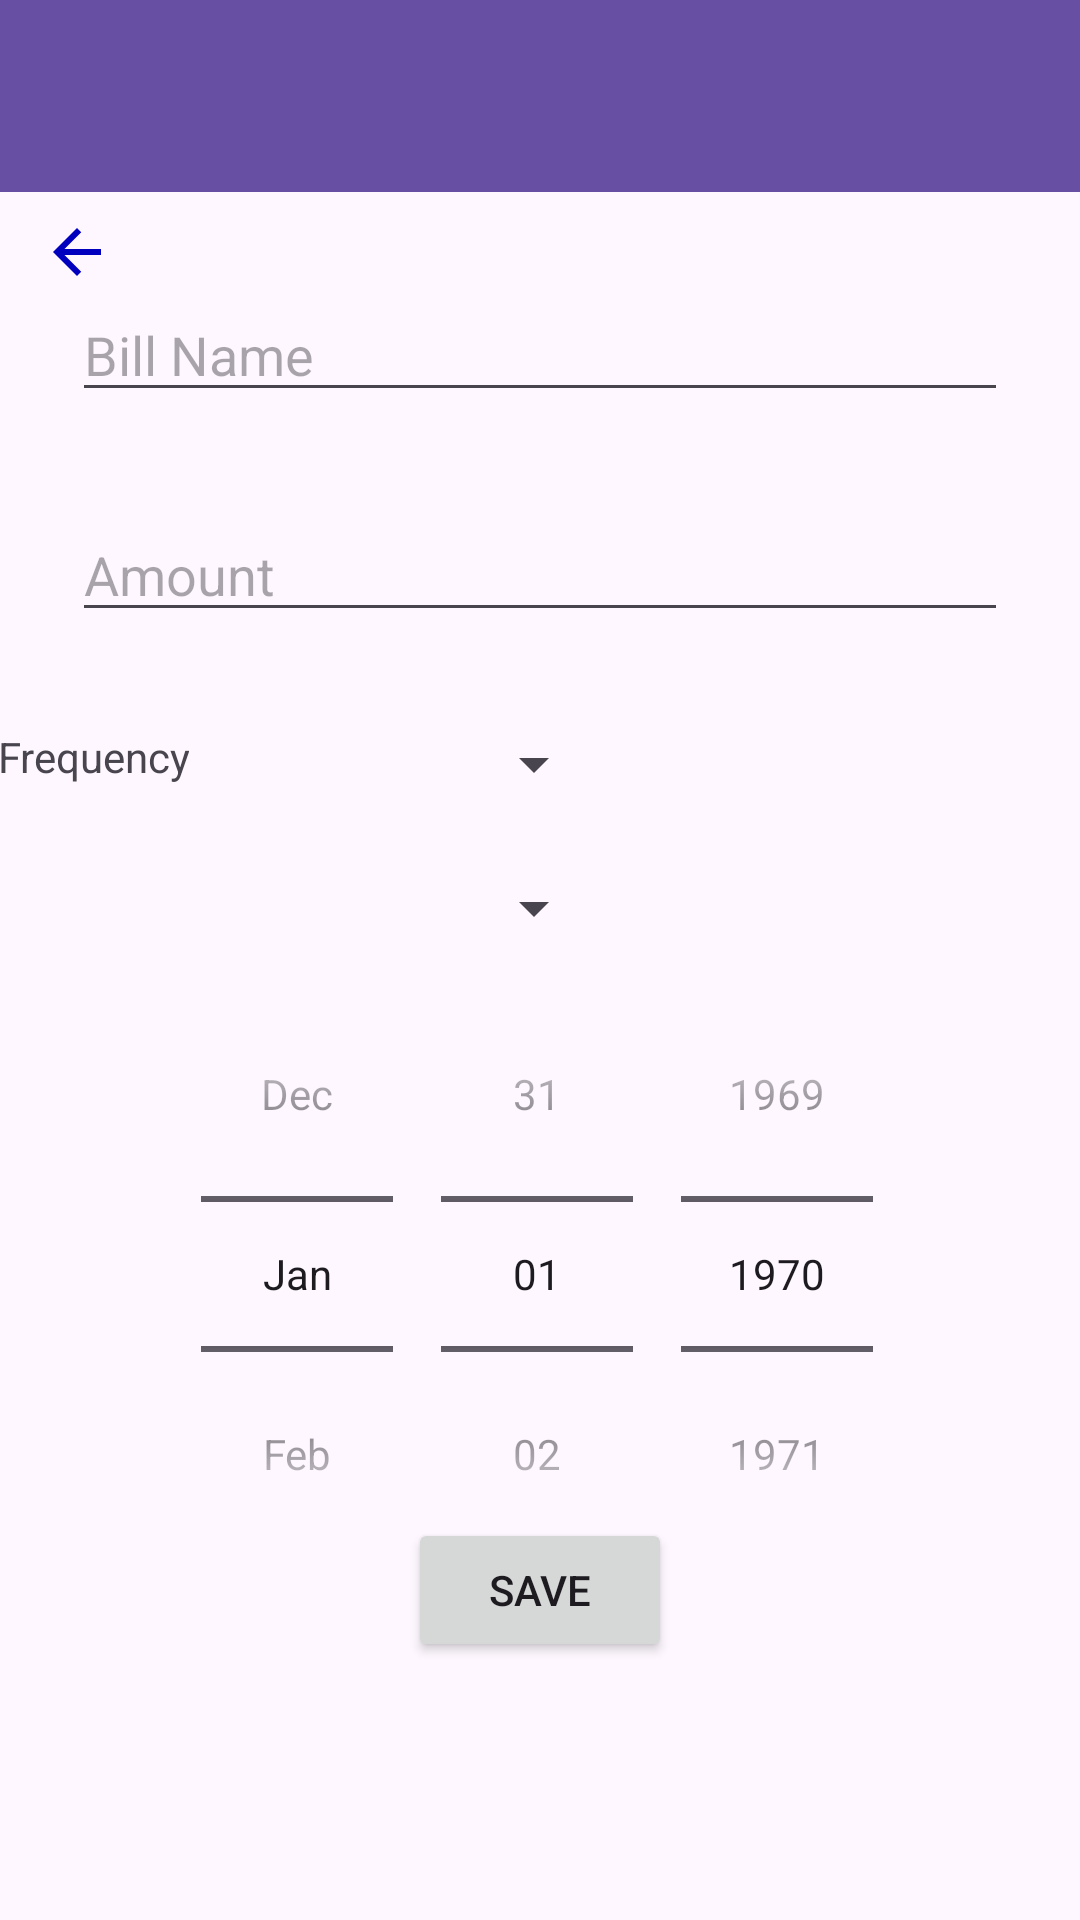

Icon click points for this 1080*1920 phone screenshot, format [x,y]:
arrow back: [77,252]
